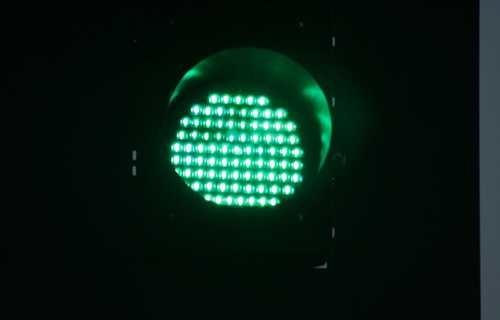green: (154, 53, 326, 223)
